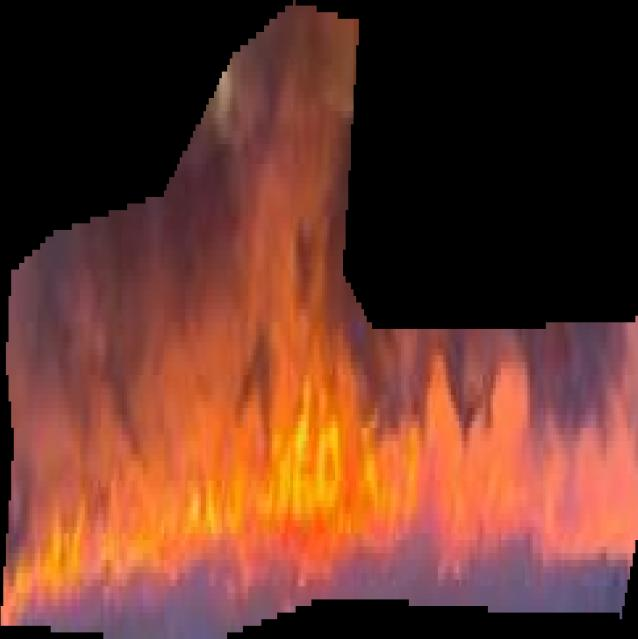fire: (0, 1, 638, 639)
